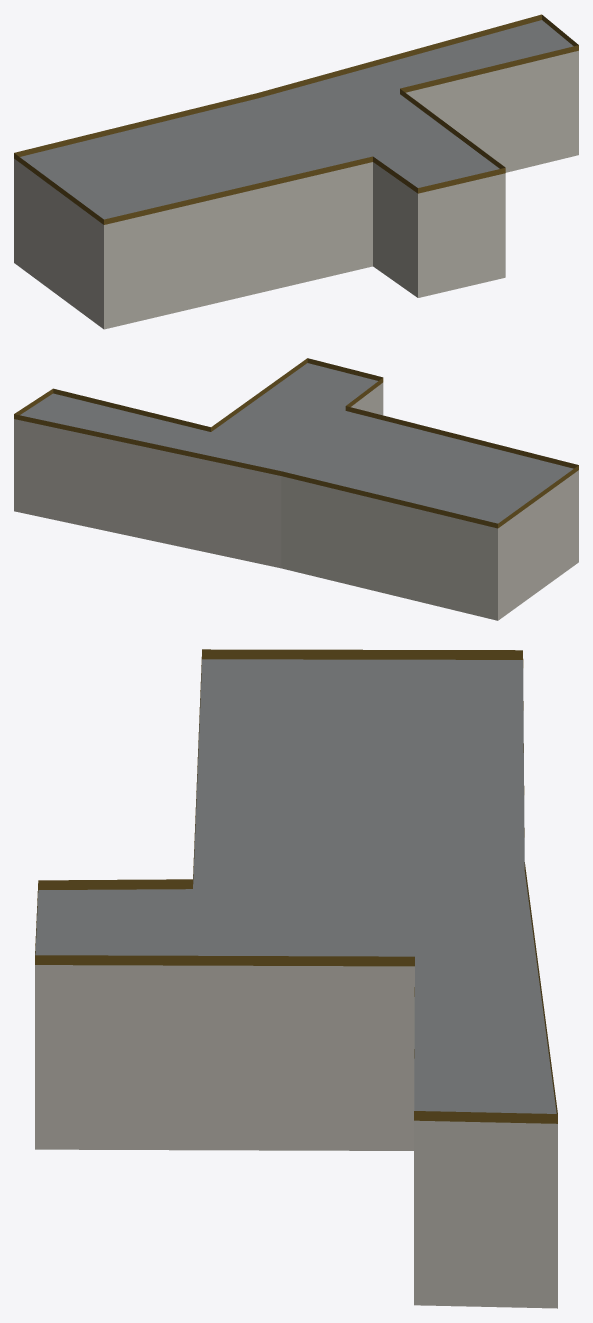
The model's file is hotel-furaya-lod2.glb.
The picture shows the model from 3 angles, top to bottom: view 1: azimuth 30°, elevation 25°; view 2: azimuth 150°, elevation 25°; view 3: azimuth 270°, elevation 25°; orthographic projection. The views are drawn at different scales.
Visible parts, largest first — view 1: hotel-furaya_LOD2; view 2: hotel-furaya_LOD2; view 3: hotel-furaya_LOD2.
Part boxes in pixels (left/top/right/bottom): hotel-furaya_LOD2: left=14, top=14, right=578, bottom=329; hotel-furaya_LOD2: left=14, top=358, right=578, bottom=620; hotel-furaya_LOD2: left=35, top=649, right=557, bottom=1308.
Bounding box in the file's own units: 132 × 25.8 × 62.9.
